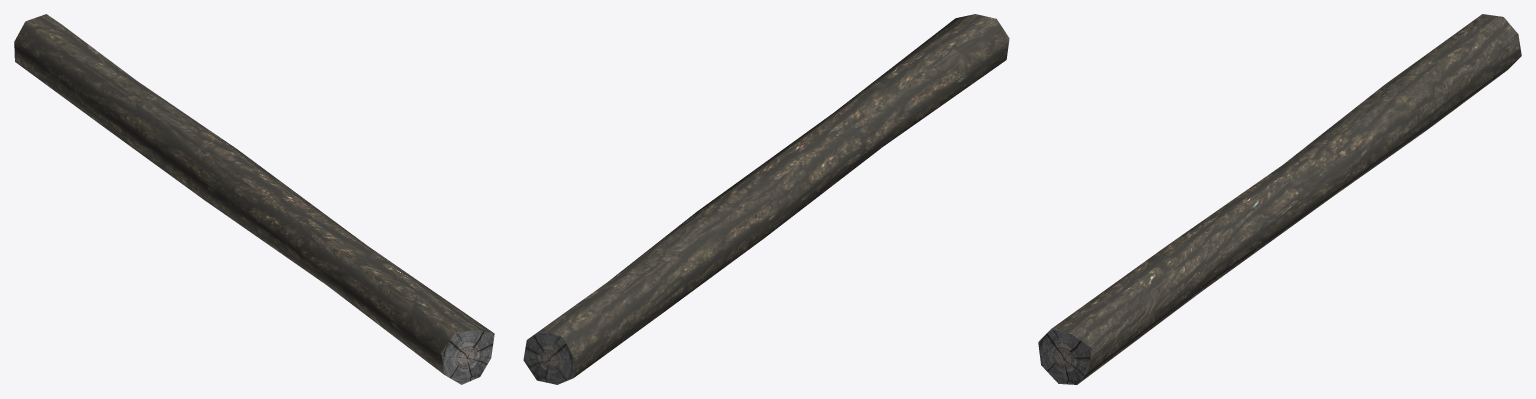
File: MSH_Tree_Log_01.fbx
3 renders of one model, left to right at view 1: azimuth 30°, elevation 25°; view 2: azimuth 150°, elevation 25°; view 3: azimuth 330°, elevation 25°, orthographic.
Visible parts, largest first — view 1: MSH_Tree_Log_01_LOD0; view 2: MSH_Tree_Log_01_LOD0; view 3: MSH_Tree_Log_01_LOD0.
Part boxes in pixels (<box>): MSH_Tree_Log_01_LOD0: <box>14,14,494,384</box>; MSH_Tree_Log_01_LOD0: <box>523,14,1009,384</box>; MSH_Tree_Log_01_LOD0: <box>1038,14,1521,384</box>.
Size of what is drawn, in the model's own units: 33.55 by 32.35 by 463.
